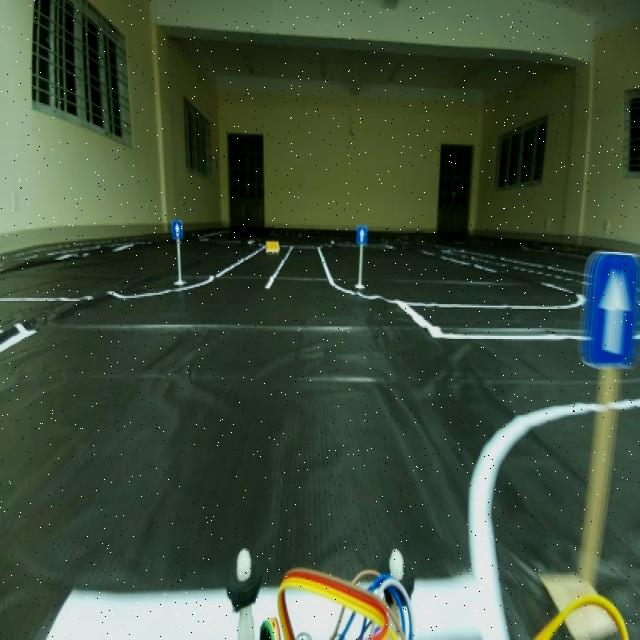onewayroad: (587, 250, 633, 364), (356, 223, 373, 250), (171, 216, 185, 240)
roadblock: (264, 236, 280, 255)
